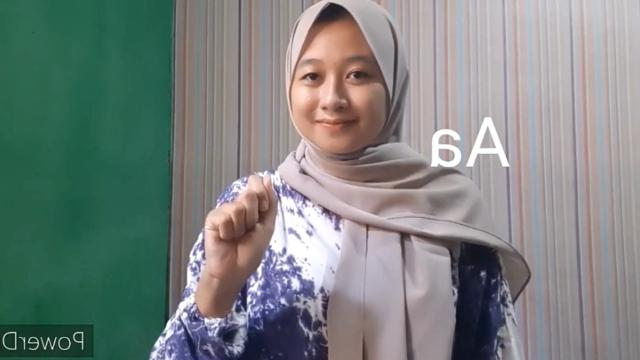A: (199, 168, 283, 286)
